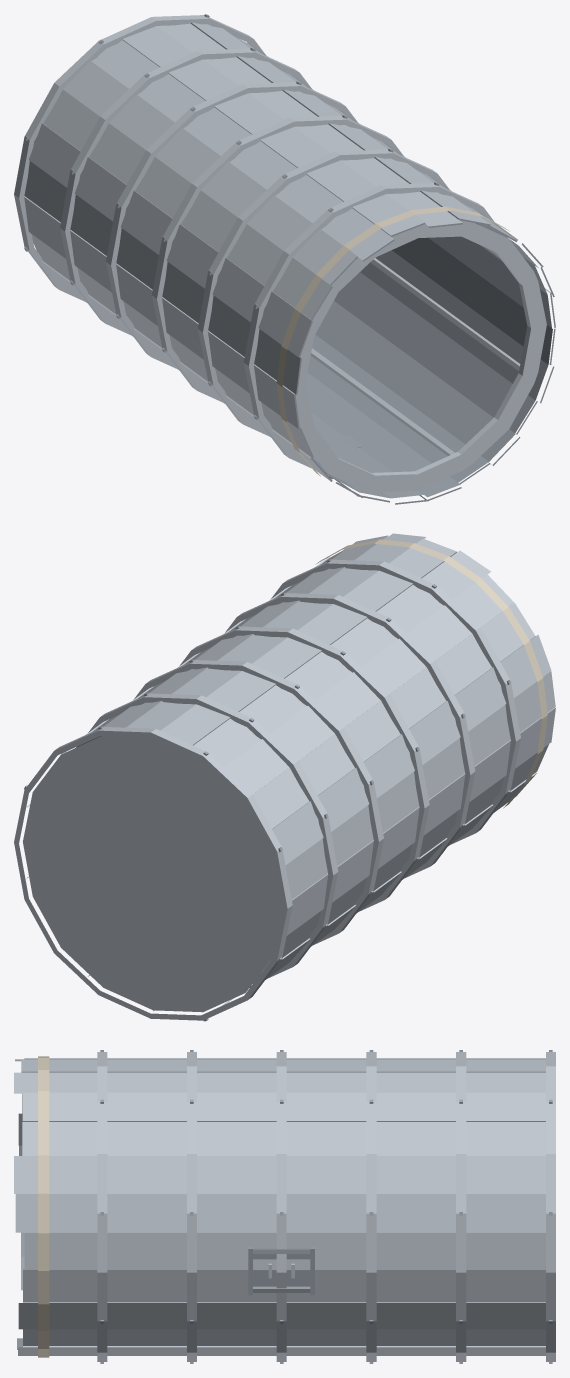
The model's file is sec-b2.glb.
3 views of the same model, one above another, from view 1: azimuth 30°, elevation 25°; view 2: azimuth 150°, elevation 25°; view 3: azimuth 270°, elevation 25° (orthographic). The views are drawn at different scales.
Visible parts, largest first — view 1: plate, steelDark, steel, hazard; view 2: steel, plate, hazard; view 3: plate, steel, hazard, steelDark.
Boxes of the visible parts, bbox=[...] form: plate: bbox=[24, 22, 551, 499]; steelDark: bbox=[24, 14, 555, 504]; steel: bbox=[14, 15, 546, 492]; hazard: bbox=[276, 206, 509, 476]; steel: bbox=[14, 559, 520, 1020]; plate: bbox=[26, 533, 555, 1011]; hazard: bbox=[315, 539, 547, 808]; plate: bbox=[14, 1058, 545, 1355]; steel: bbox=[97, 1052, 555, 1361]; hazard: bbox=[38, 1056, 49, 1357]; steelDark: bbox=[17, 1050, 552, 1363].
Bounding box in the file's own units: 9.22 × 9.22 × 16.11.
